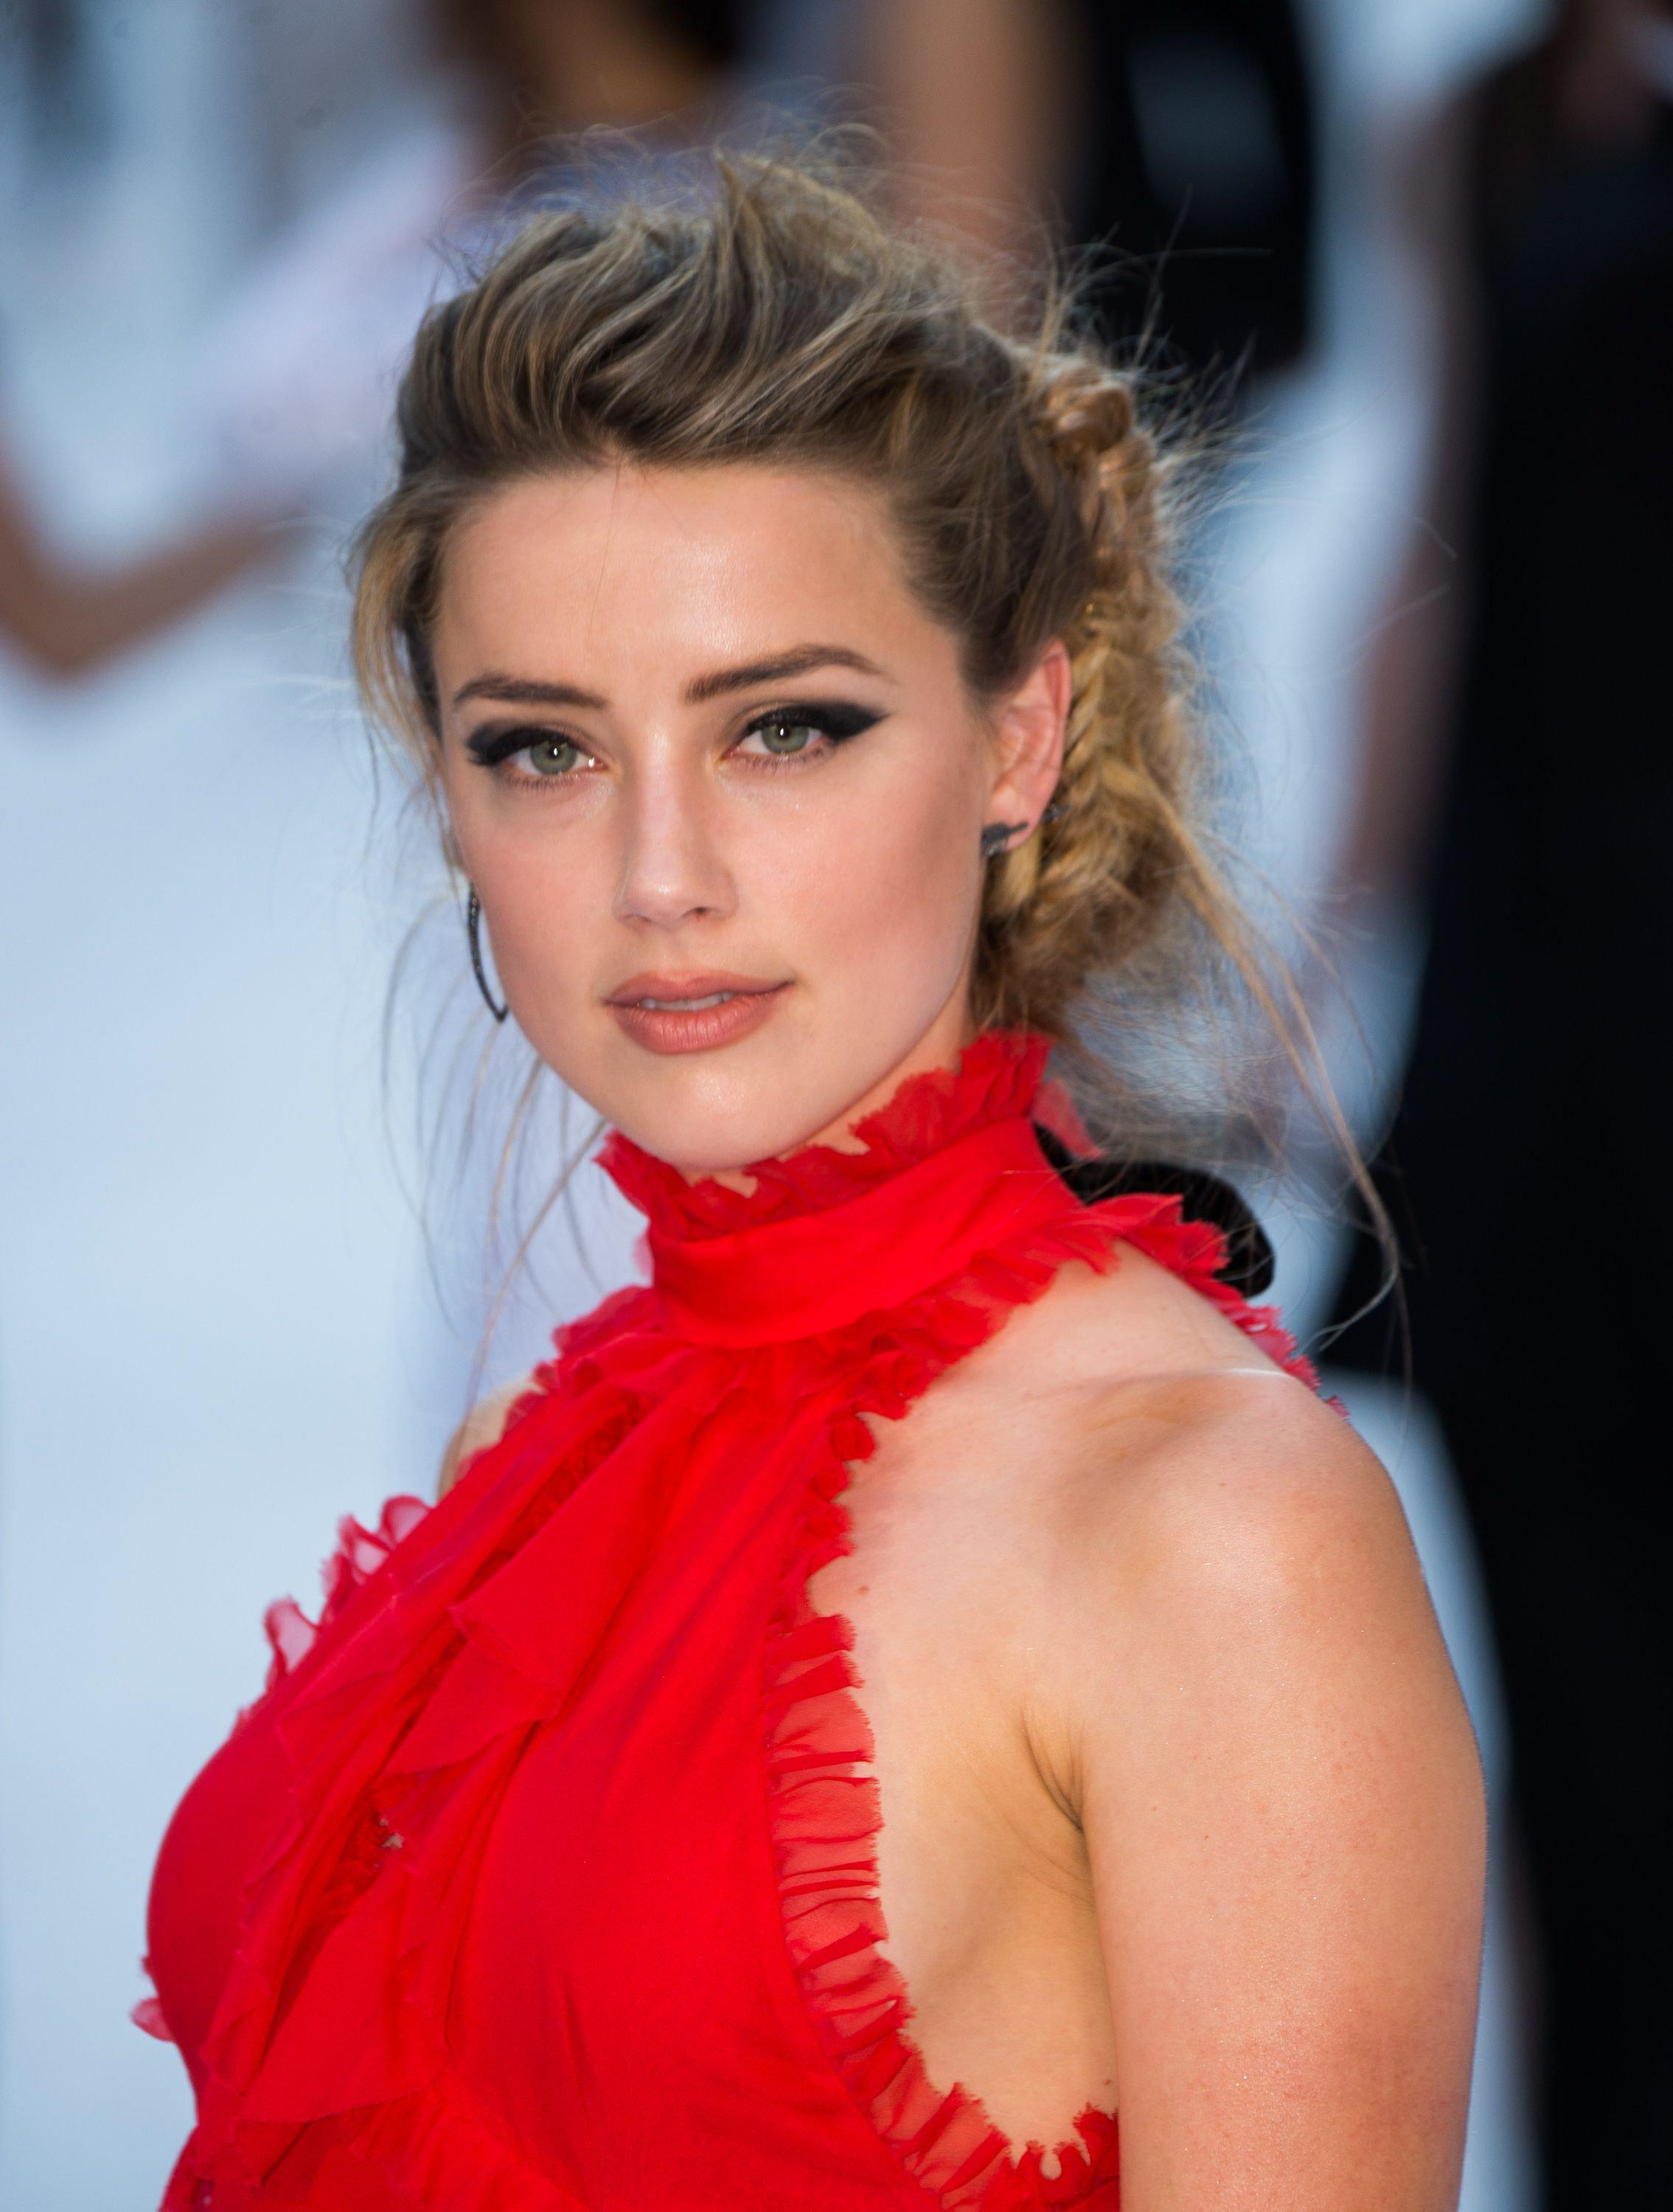Sober: (445, 499, 986, 1119)
